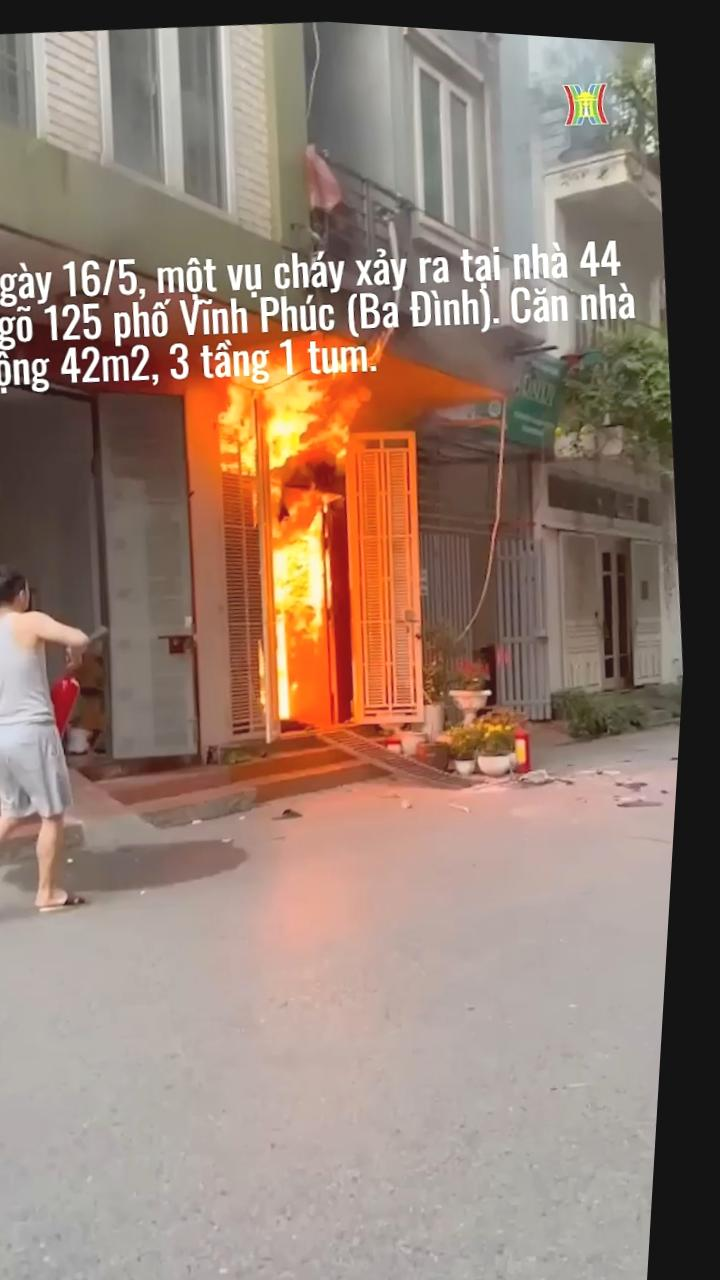FireExtinguisher: (52, 658, 103, 746), (512, 708, 544, 767)
